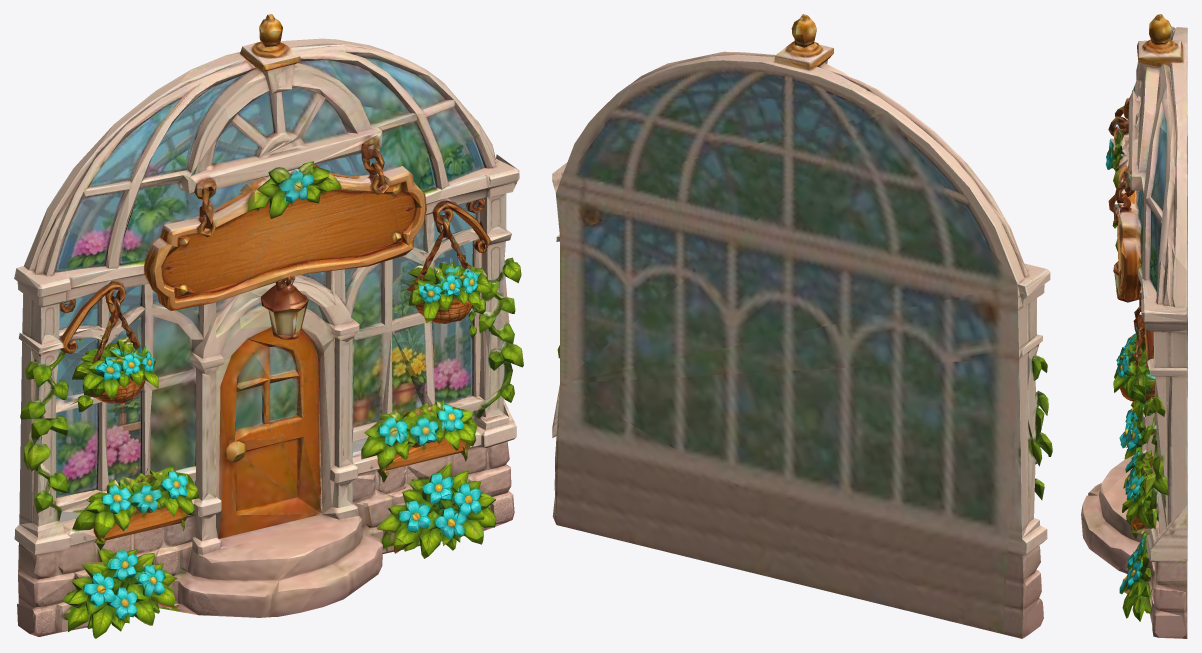
The model's file is merry_greenhouse.glb.
3 views of the same model, side by side, from view 1: azimuth 30°, elevation 25°; view 2: azimuth 150°, elevation 25°; view 3: azimuth 270°, elevation 25° (orthographic). The views are drawn at different scales.
Parts seen in each view (by area): view 1: output_unwrapped; view 2: output_unwrapped; view 3: output_unwrapped.
Boxes of the visible parts, x1,y1,x2,y2 form: output_unwrapped: (14,14,523,638); output_unwrapped: (552,14,1052,638); output_unwrapped: (1081,14,1187,638).
Bounding box in the file's own units: 1.74 × 1.9 × 0.3546.
1 material, 1 textured.
